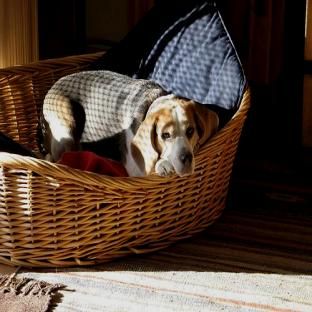Animal: (38, 70, 217, 176)
